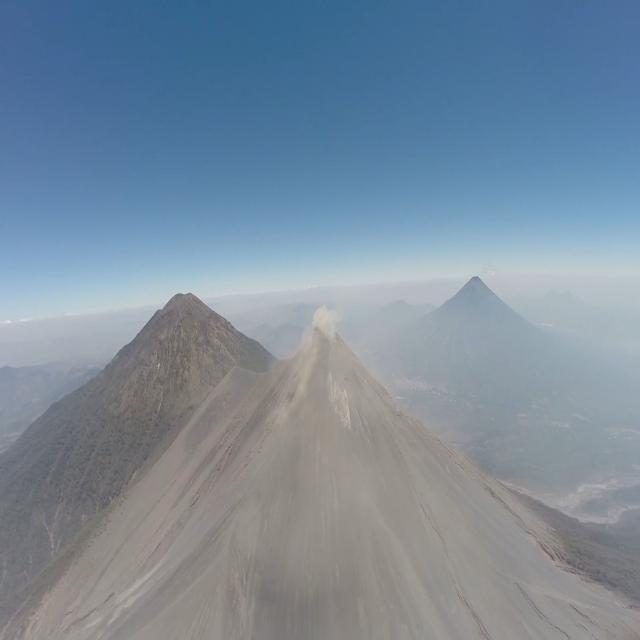Plume: (310, 304, 340, 338)
Summit: (268, 325, 418, 432)
